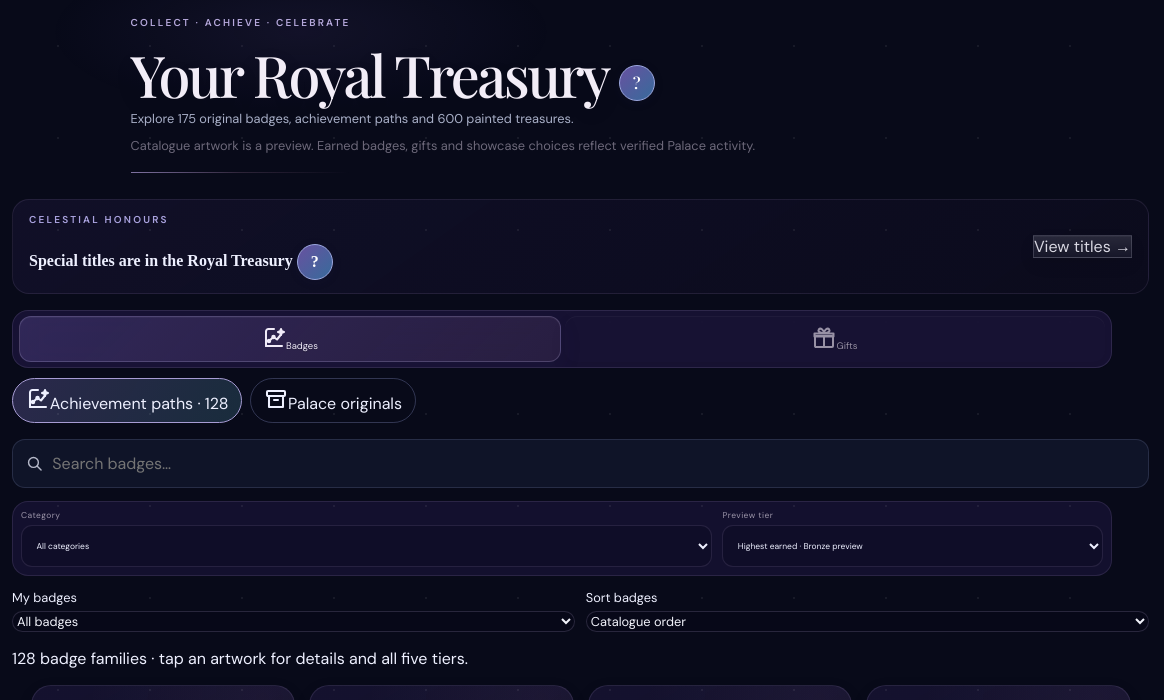
filters earned badges without granting catalogue previews
Select "Earned" in the dropdown labelled "My badges" at (294, 621), box [12, 611, 575, 632]
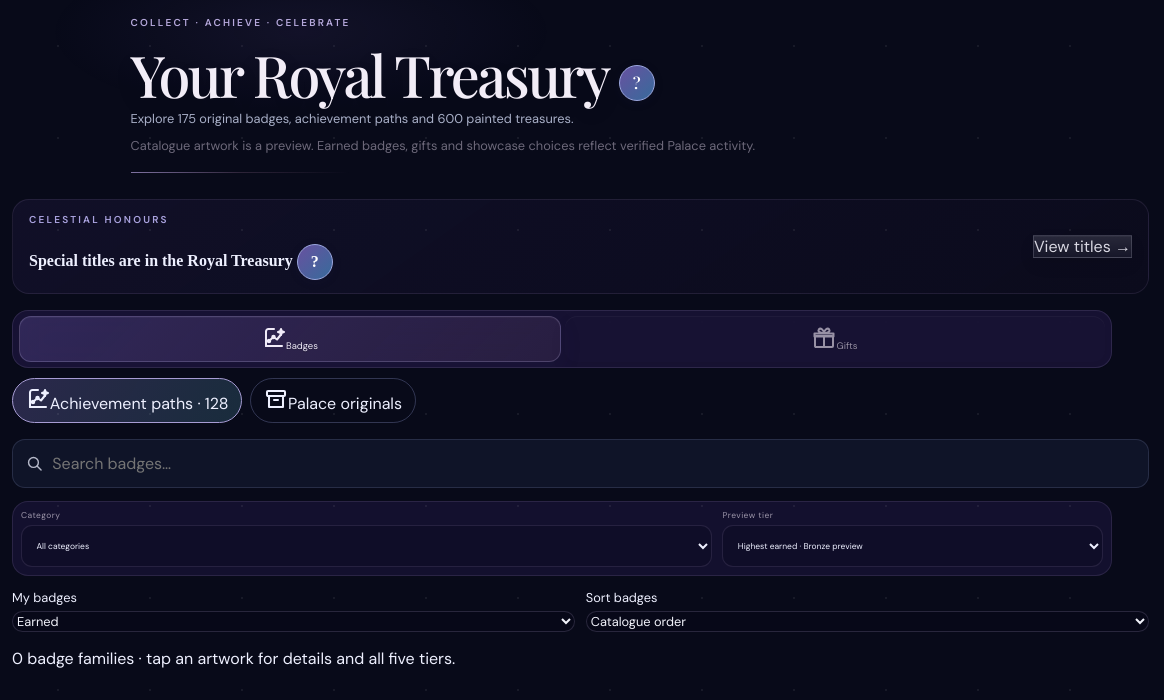
Select "Locked" in the dropdown labelled "My badges" at (294, 621), box [12, 611, 575, 632]
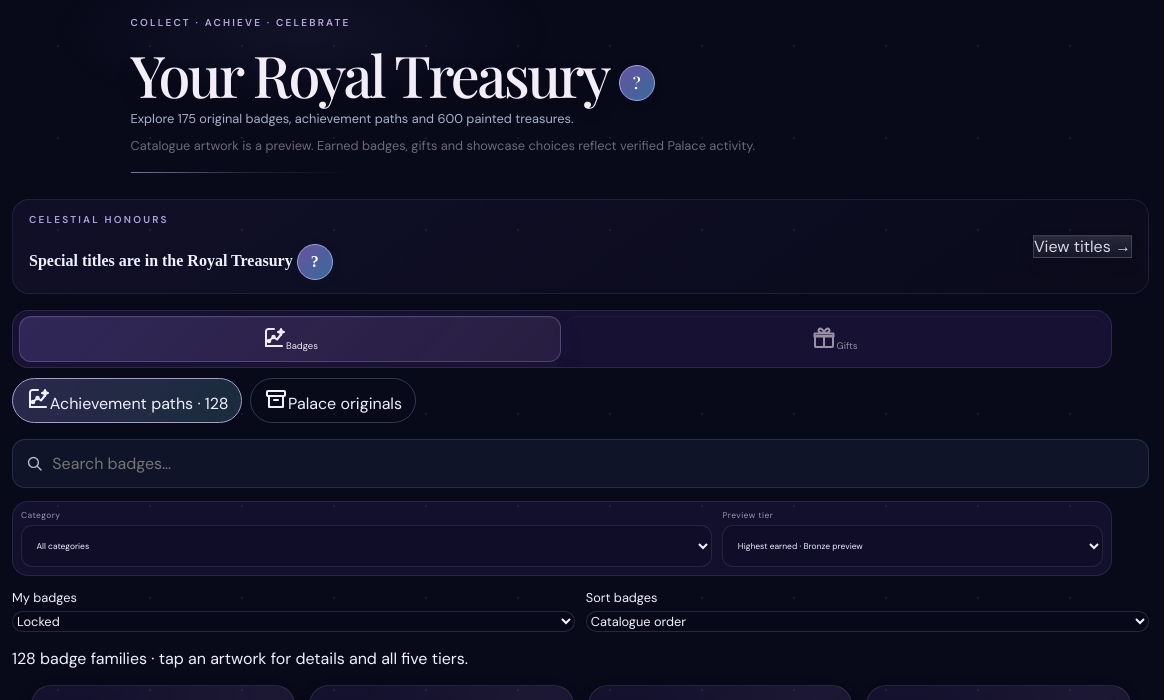
Expected: the number of buttons named "Enlarge Chapter Voyager artwork" is 24
